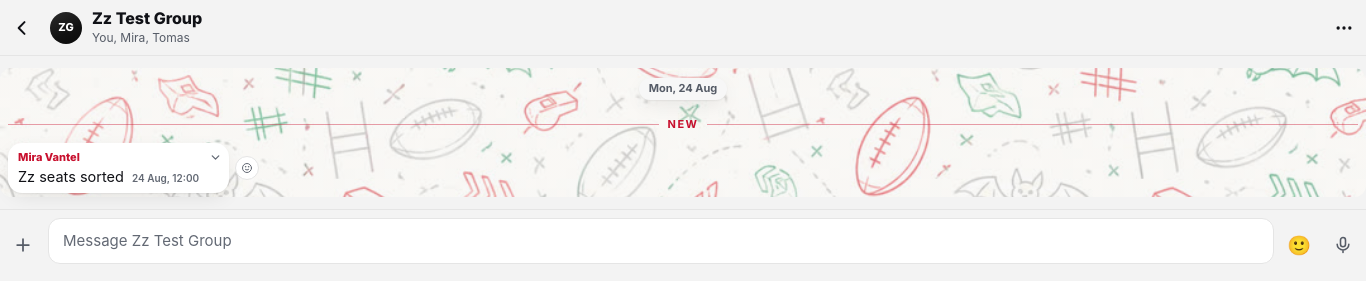
Test: a group thread › offers Rename/Add/Leave/Delete to the owner, and never Block
expect the heading "Zz Test Group" is shown: met, box [92,8,202,28]
Click the button named "Chat options" at [1344, 28], box [1326,10,1362,46]
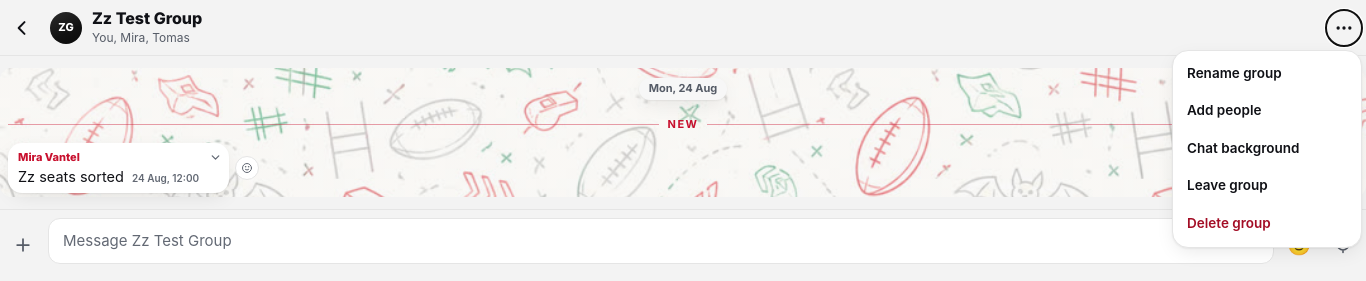
expect the menu item "Rename group" is shown: met, box [1173,55,1361,92]
expect the menu item "Add people" is shown: met, box [1173,92,1361,130]
expect the menu item "Leave group" is shown: met, box [1173,167,1361,205]
